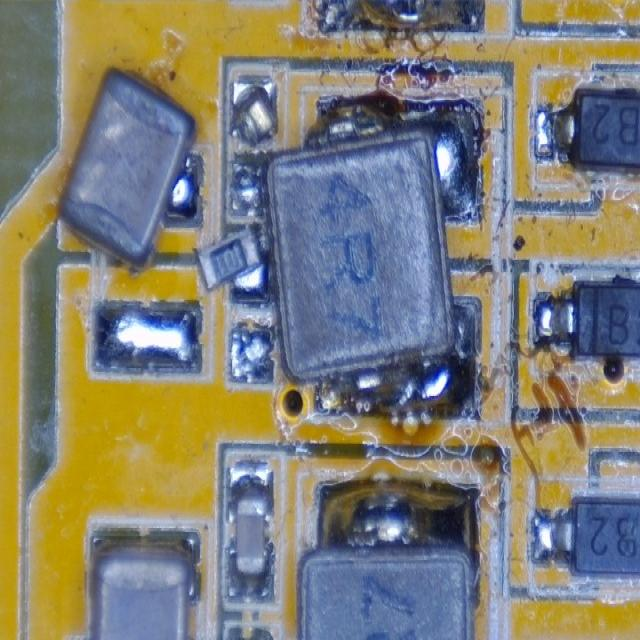Incorrect_installation: (264, 94, 483, 418), (55, 64, 201, 272), (193, 224, 269, 300)
